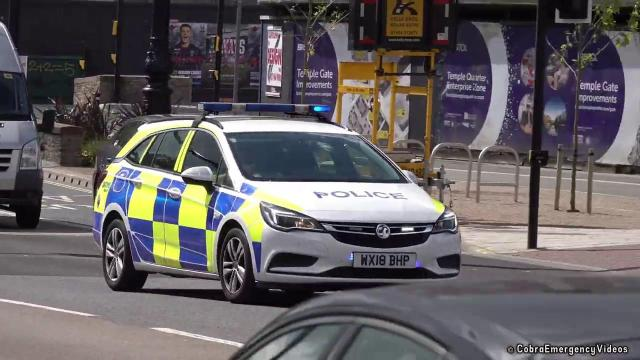police_car: (86, 102, 464, 294)
